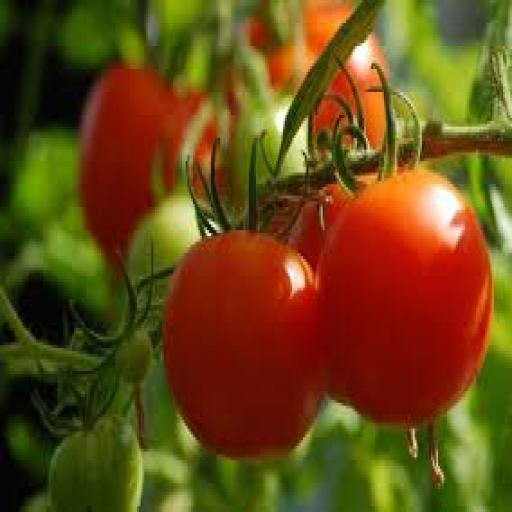tomato: (318, 170, 492, 425), (163, 231, 324, 457), (80, 67, 203, 261), (249, 0, 351, 89), (49, 418, 142, 511), (229, 98, 290, 207), (128, 193, 200, 279), (289, 185, 349, 267), (116, 328, 155, 388)
